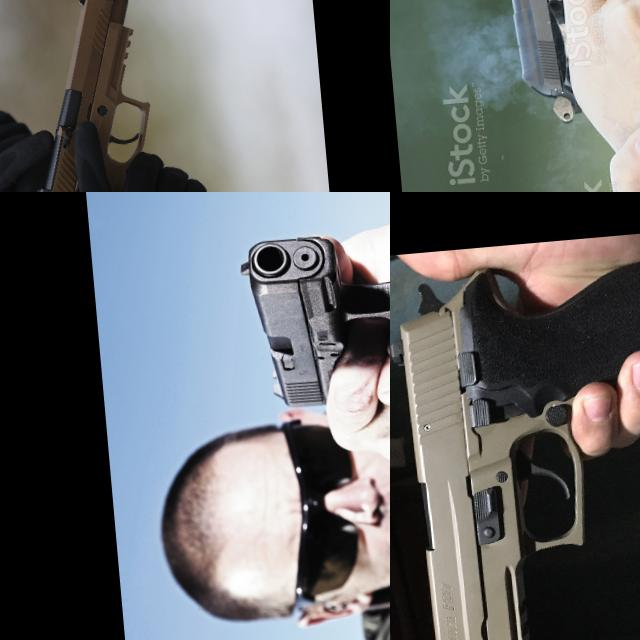handgun: (390, 237, 640, 640), (233, 224, 390, 415), (11, 0, 165, 192), (488, 0, 626, 130)
